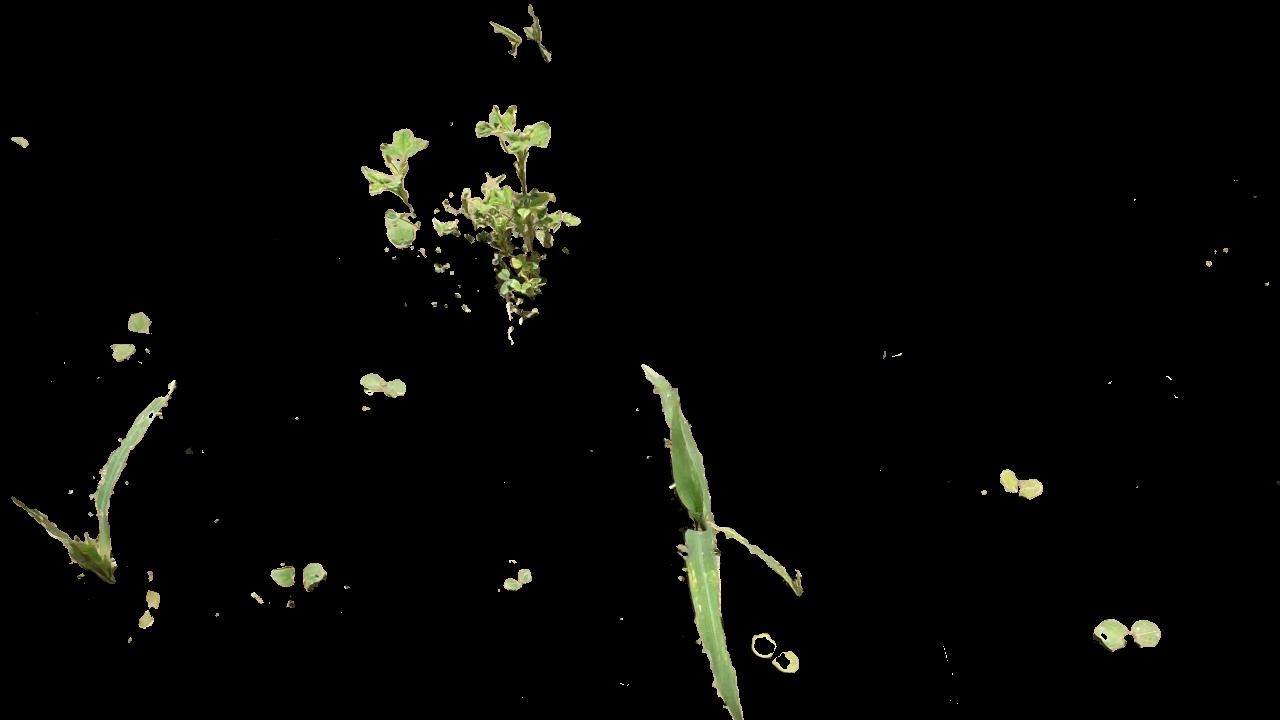crop: (643, 360, 805, 626), (12, 380, 191, 583)
weed: (433, 118, 568, 349), (334, 126, 431, 300), (487, 1, 555, 63), (1087, 619, 1166, 655), (353, 373, 406, 414), (745, 634, 799, 673), (112, 307, 149, 363), (995, 468, 1049, 506), (273, 555, 338, 585), (139, 589, 167, 629), (500, 568, 533, 597)
